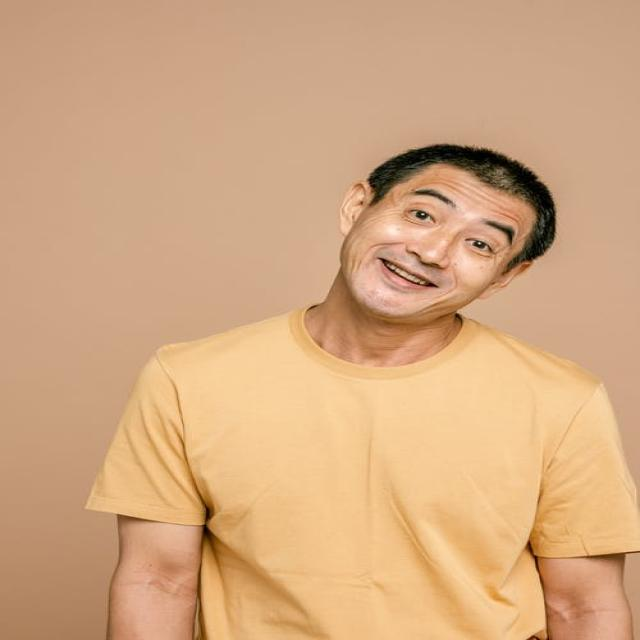Wrinkles: (445, 180, 519, 214), (486, 207, 522, 244), (419, 181, 472, 199), (346, 235, 359, 274), (352, 252, 356, 279)
